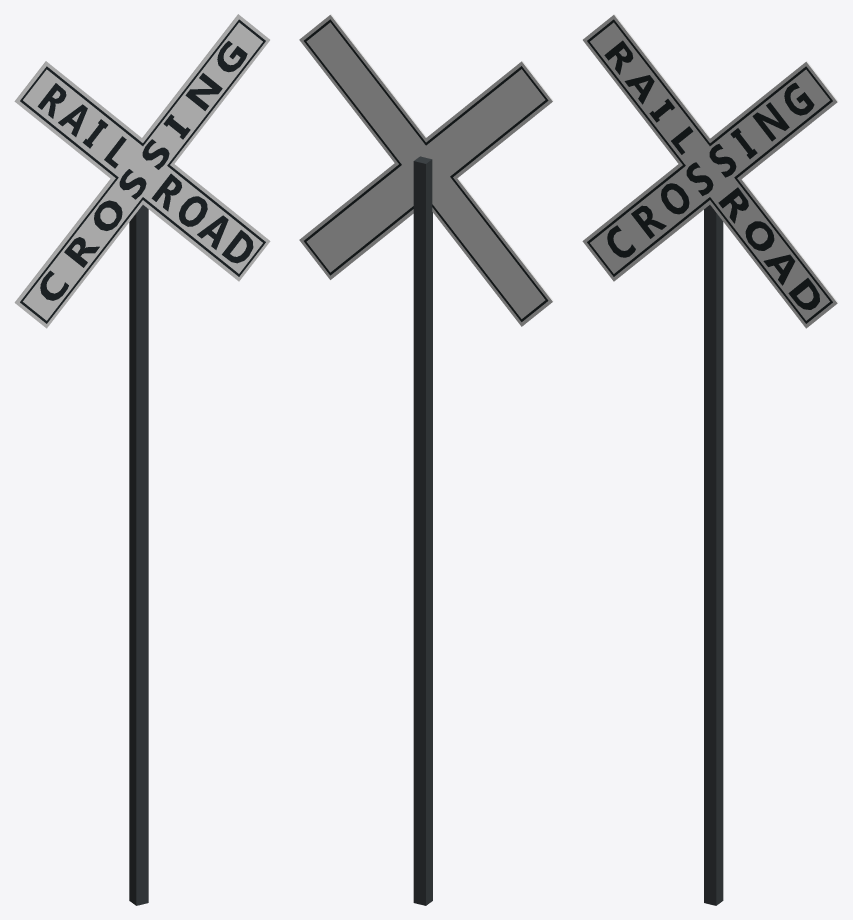
Rendered from SM_FloorProps_RoadSign_44.fbx.
The picture shows the model from 3 angles, left to right: view 1: azimuth 30°, elevation 25°; view 2: azimuth 150°, elevation 25°; view 3: azimuth 330°, elevation 25°; orthographic projection.
Visible parts, largest first — view 1: SM_FloorProps_RoadSign_44; view 2: SM_FloorProps_RoadSign_44; view 3: SM_FloorProps_RoadSign_44.
Boxes of the visible parts, <box> form: SM_FloorProps_RoadSign_44: <box>14,14,270,905</box>; SM_FloorProps_RoadSign_44: <box>299,14,553,905</box>; SM_FloorProps_RoadSign_44: <box>582,14,838,905</box>.
Size of the model in its own units: 0.8946 by 2.9 by 0.0465.
